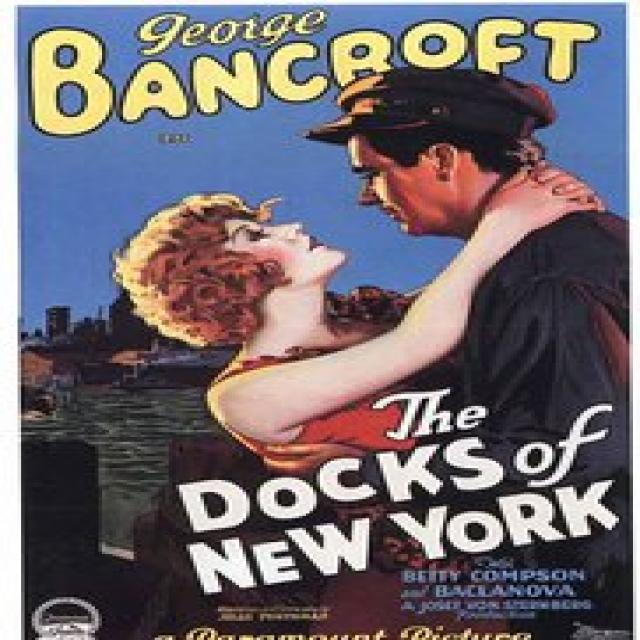movie-judul: (181, 390, 638, 588)
picture: (35, 74, 640, 377)
